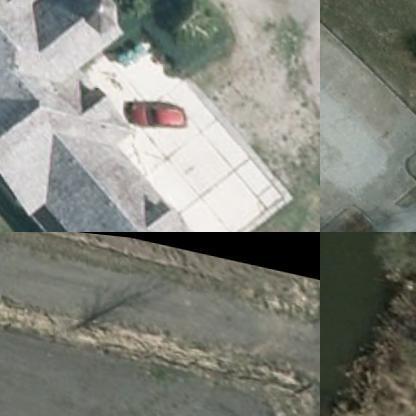car: (113, 87, 184, 130)
